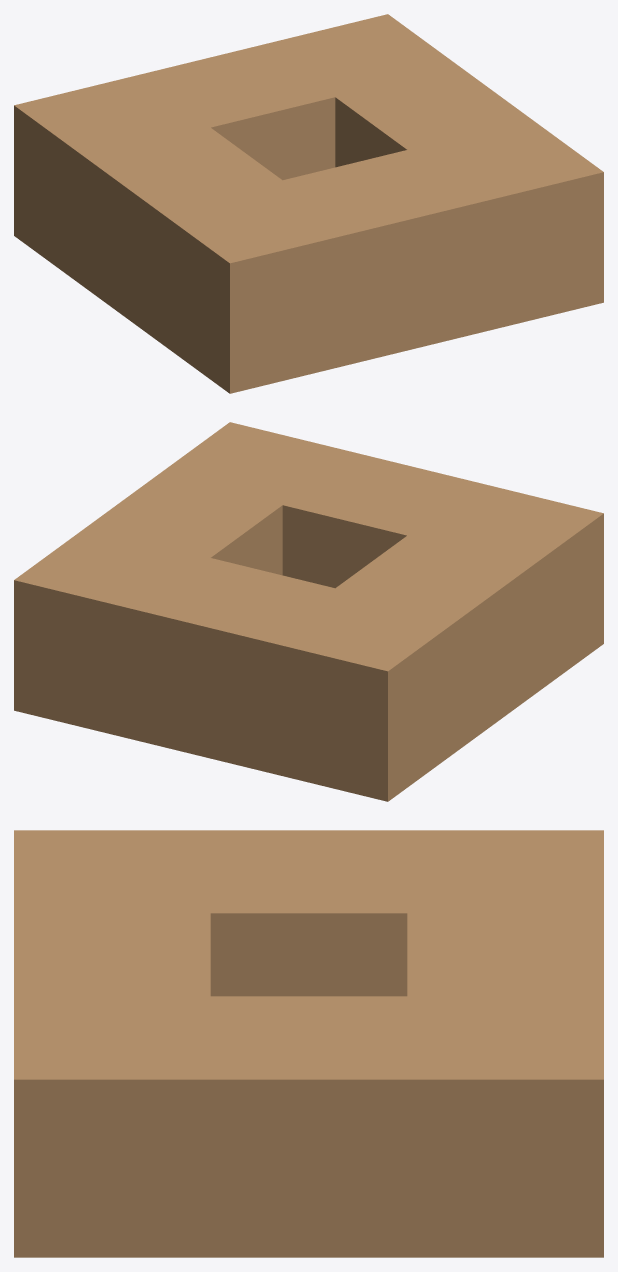
File: anillo_cobre_01.glb
3 views of the same model, one above another, from view 1: azimuth 30°, elevation 25°; view 2: azimuth 150°, elevation 25°; view 3: azimuth 270°, elevation 25° (orthographic). The views are drawn at different scales.
Parts seen in each view (by area): view 1: anillo_cobre; view 2: anillo_cobre; view 3: anillo_cobre.
Part boxes in pixels (bbox=[...]): anillo_cobre: bbox=[14, 14, 603, 393]; anillo_cobre: bbox=[14, 422, 603, 801]; anillo_cobre: bbox=[14, 830, 603, 1257].
Bounding box in the file's own units: 0.25 × 0.0833 × 0.25.
